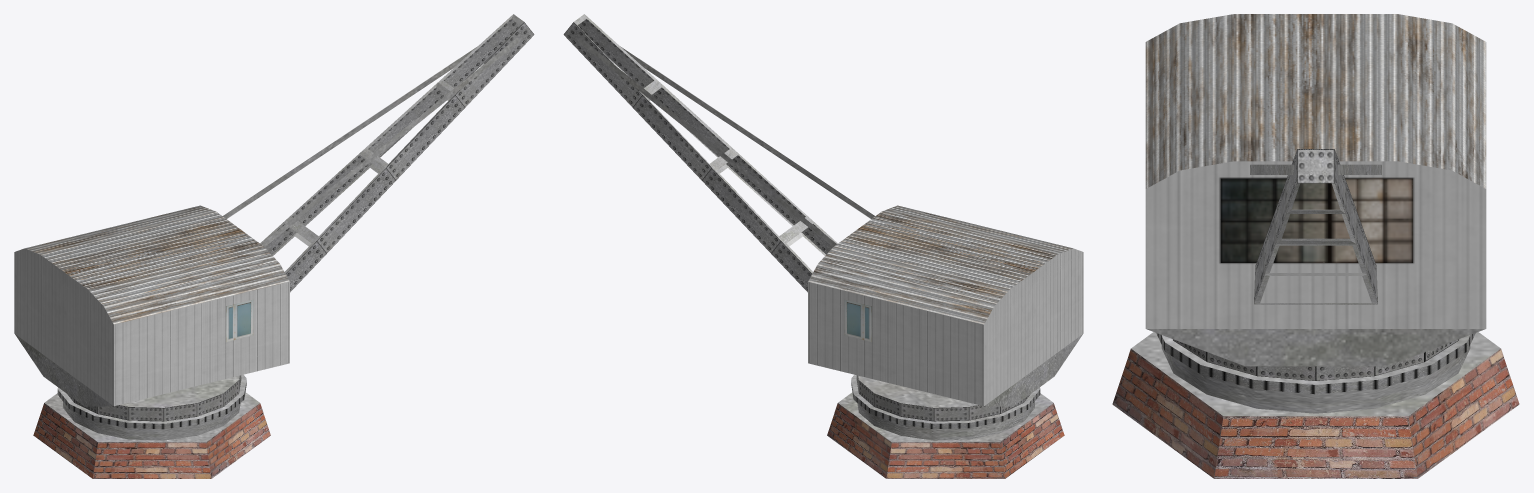
Rendered from PortCrane.dae.
3 renders of one model, left to right at view 1: azimuth 30°, elevation 25°; view 2: azimuth 150°, elevation 25°; view 3: azimuth 270°, elevation 25°, orthographic. The views are drawn at different scales.
Visible parts, largest first — view 1: PortCrane; view 2: PortCrane; view 3: PortCrane.
Boxes of the visible parts, box(x1,y1,x2,y2) form: PortCrane: box(14, 14, 534, 478); PortCrane: box(563, 14, 1083, 478); PortCrane: box(1112, 14, 1519, 478).
Bounding box in the file's own units: 179 × 79.2 × 121.
